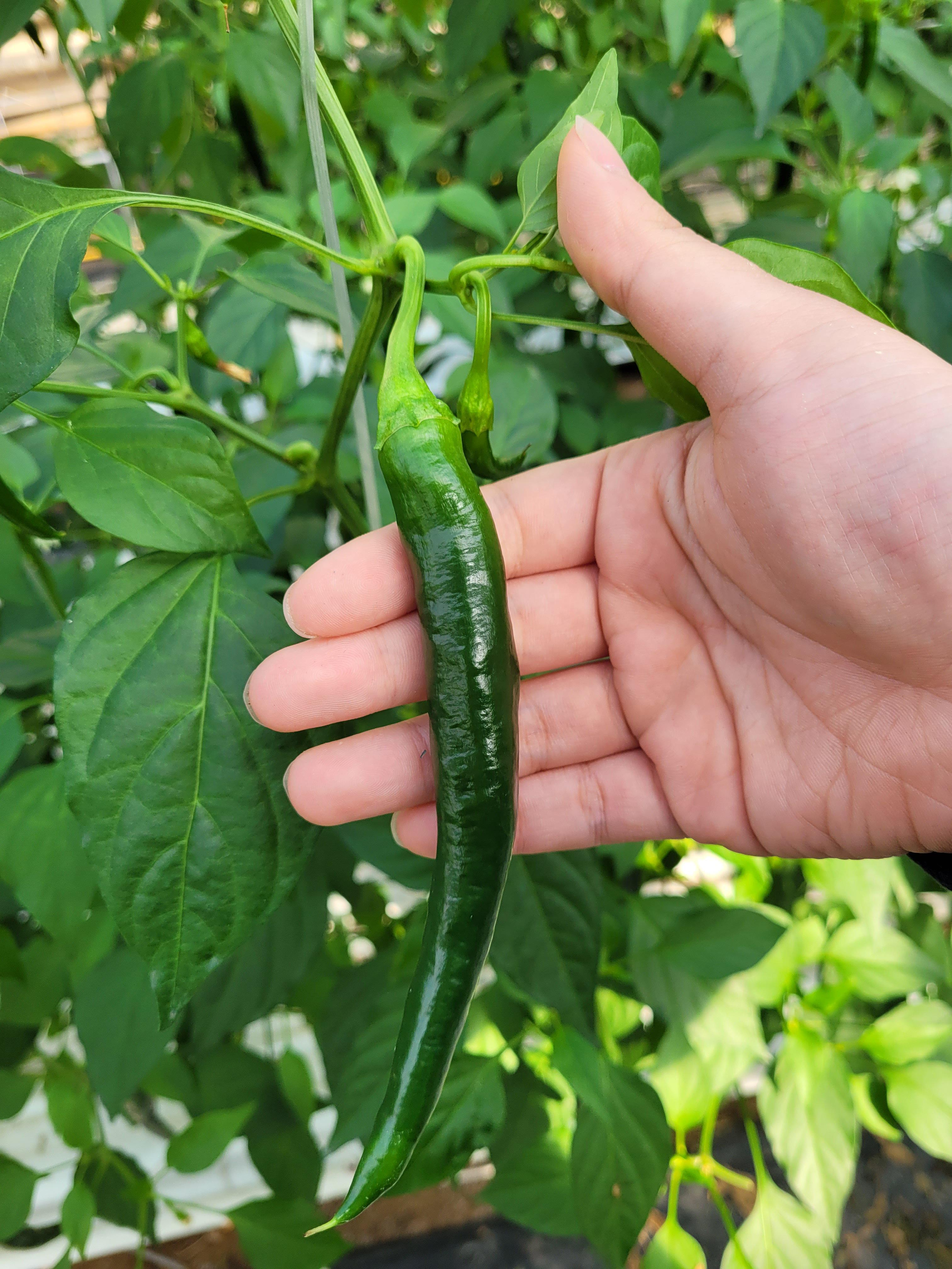Buah Cabai Sehat: (304, 371, 523, 1238)
Daun Cabai Sehat: (49, 539, 320, 1029)
